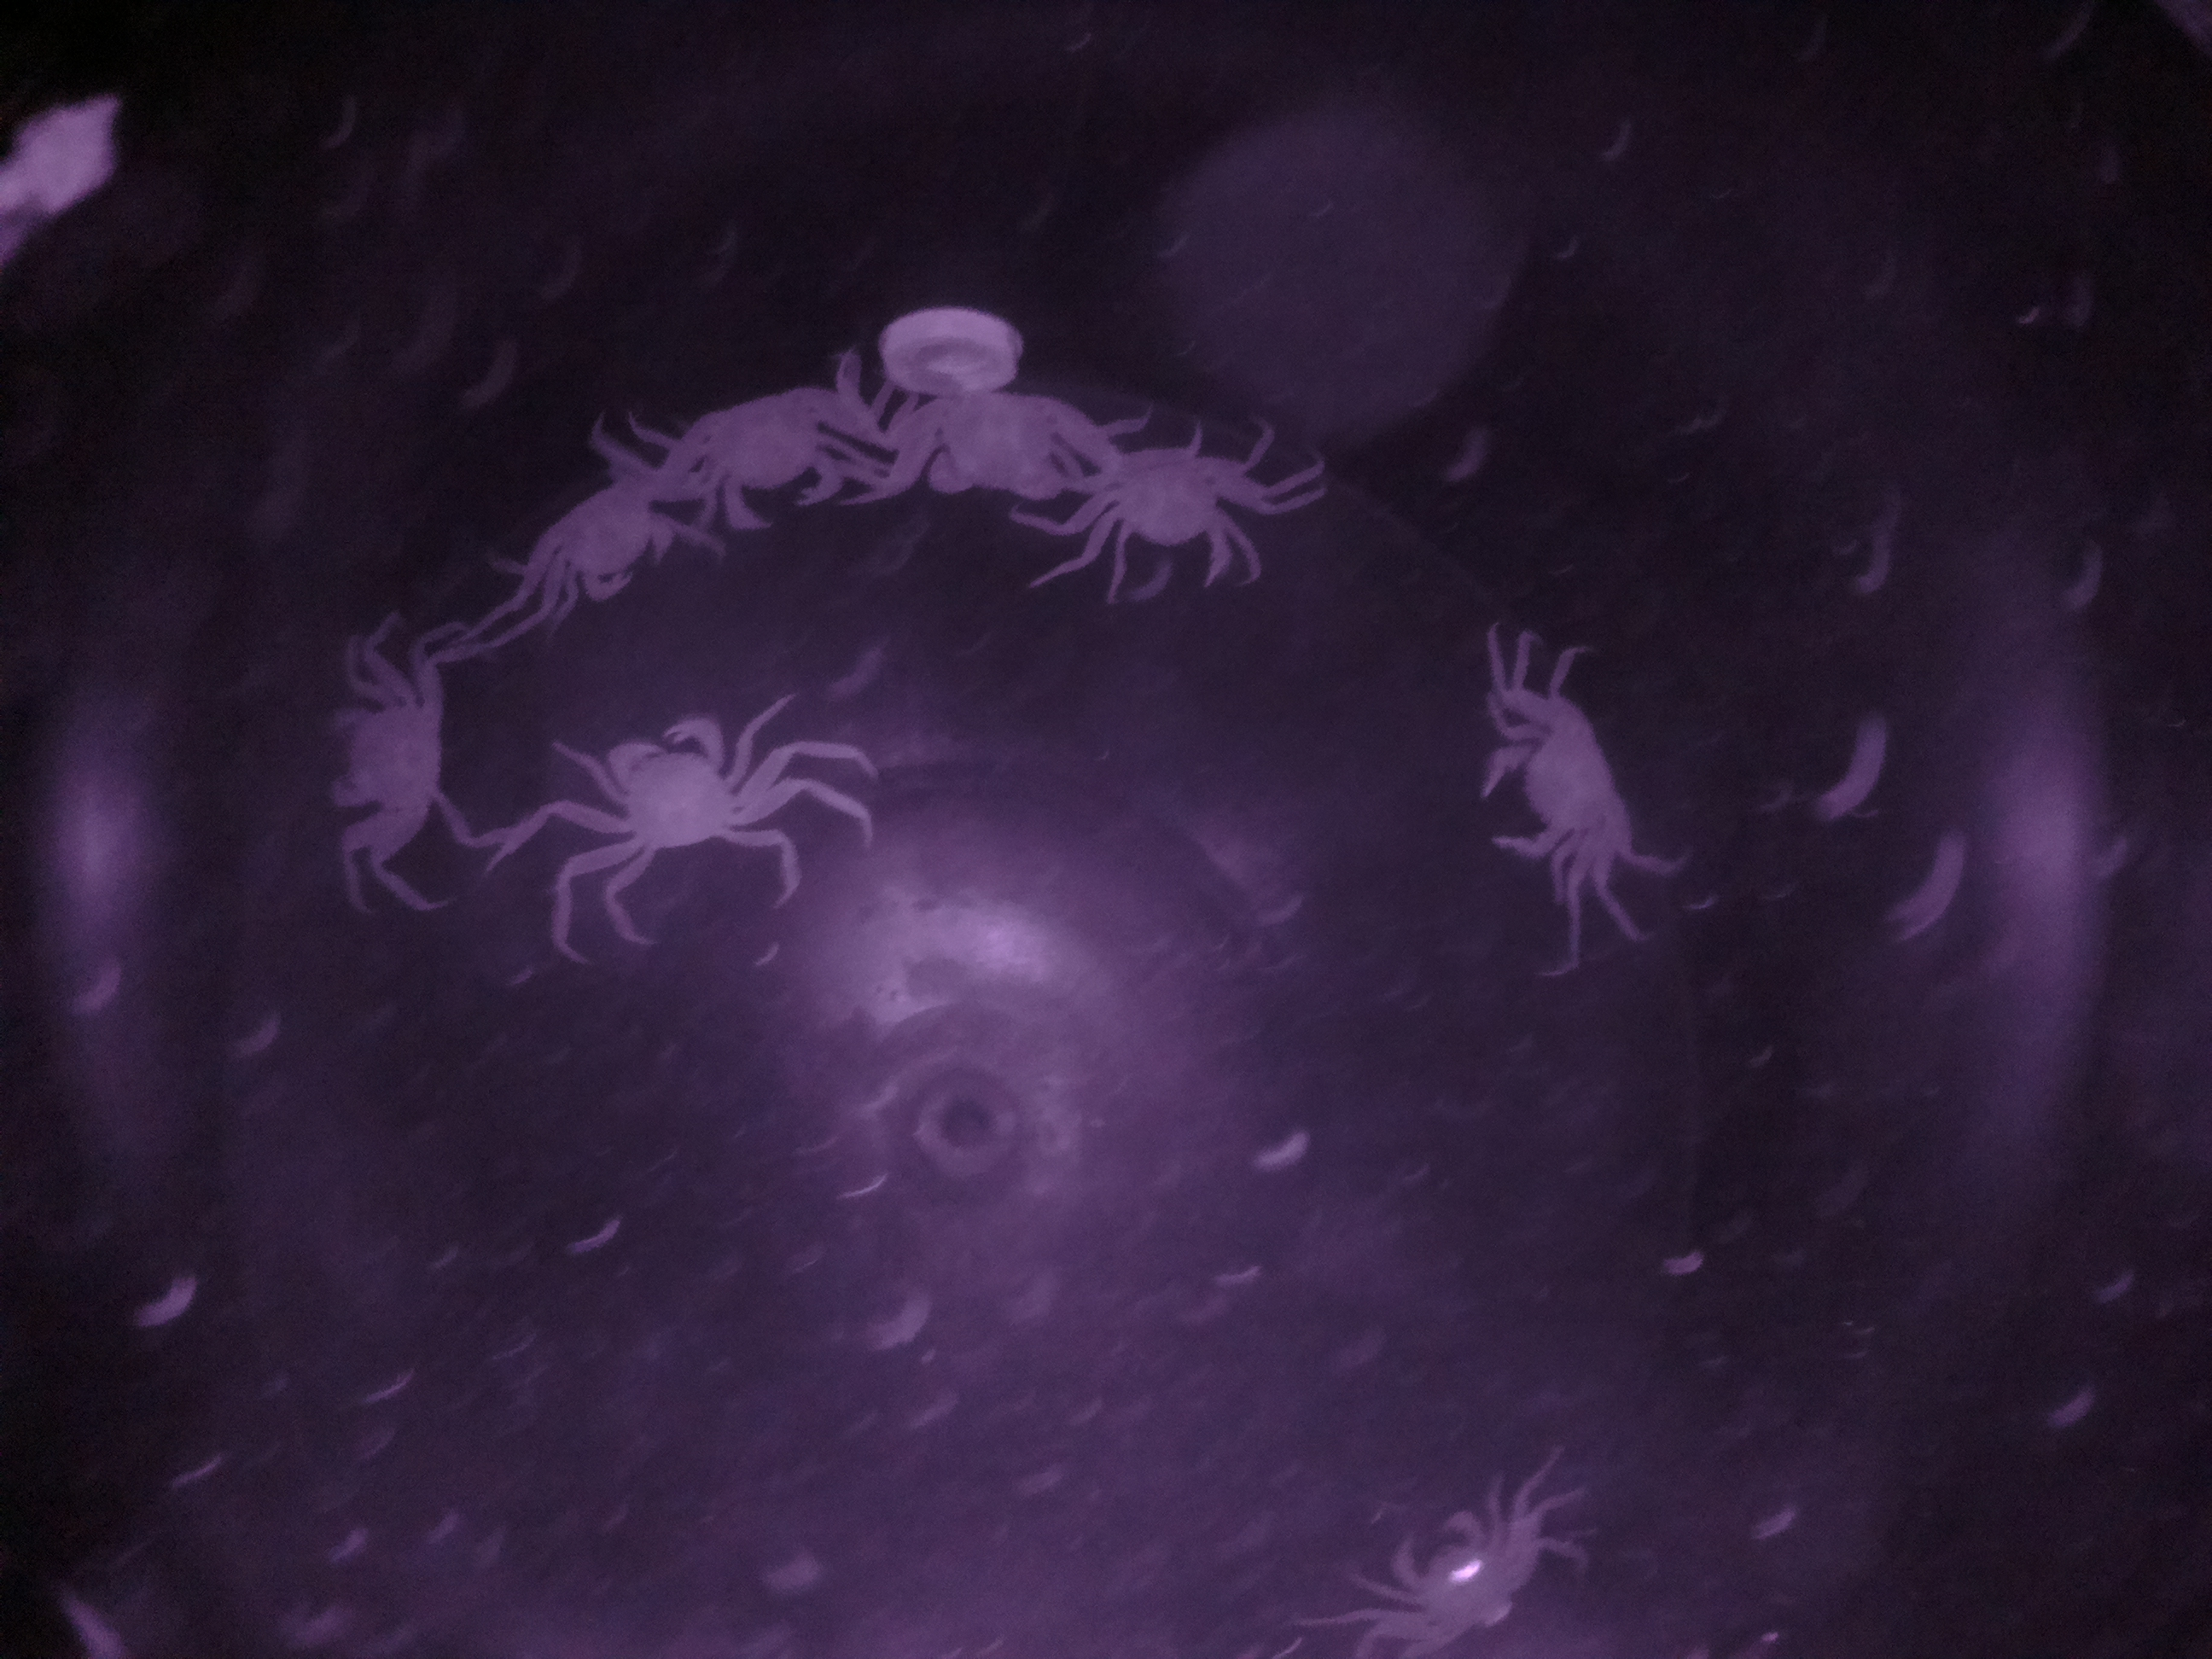Crab: (1465, 687, 1644, 906), (570, 701, 779, 877), (683, 359, 866, 549), (1362, 1483, 1552, 1659), (314, 662, 475, 847), (1096, 420, 1254, 586), (535, 451, 686, 624)
